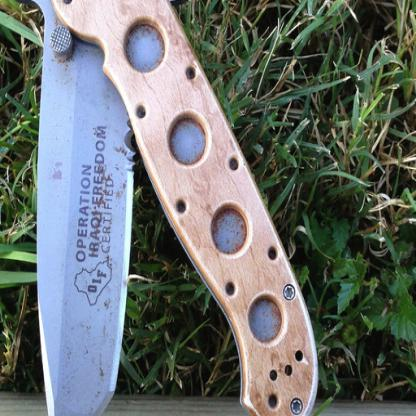knife: (3, 0, 328, 415)
